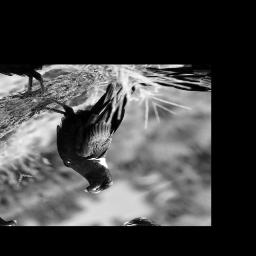Crow: (8, 70, 188, 200)
